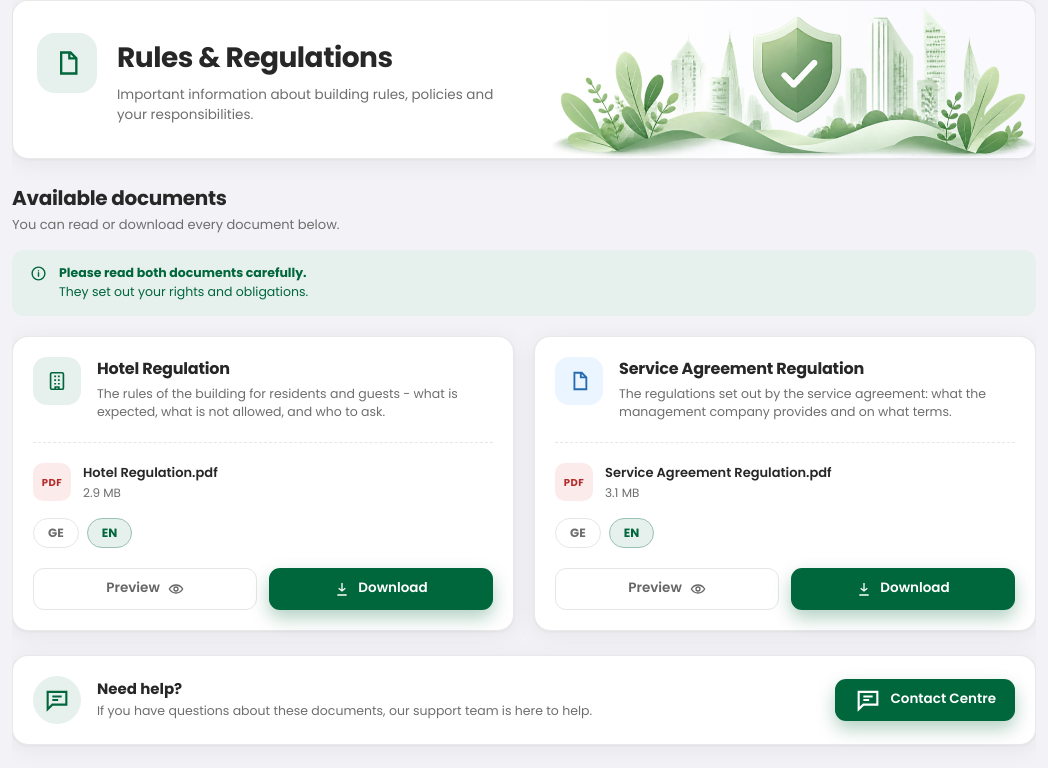
Test: RulesPage › choosing a language swaps the file both buttons point at
Click the radio button labelled "GE" below "2.9 MB".
click(56, 532)  # box x1=33 y1=518 x2=79 y2=548
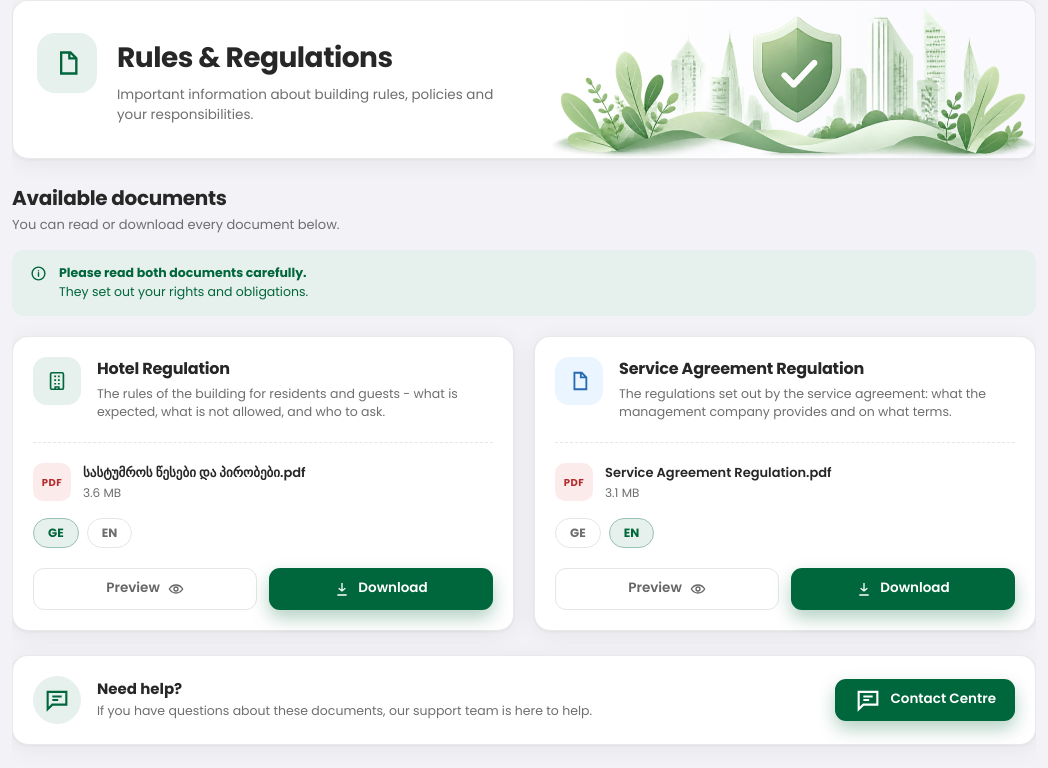
Now the text "3.6 MB" is shown, box x1=83 y1=484 x2=121 y2=500
